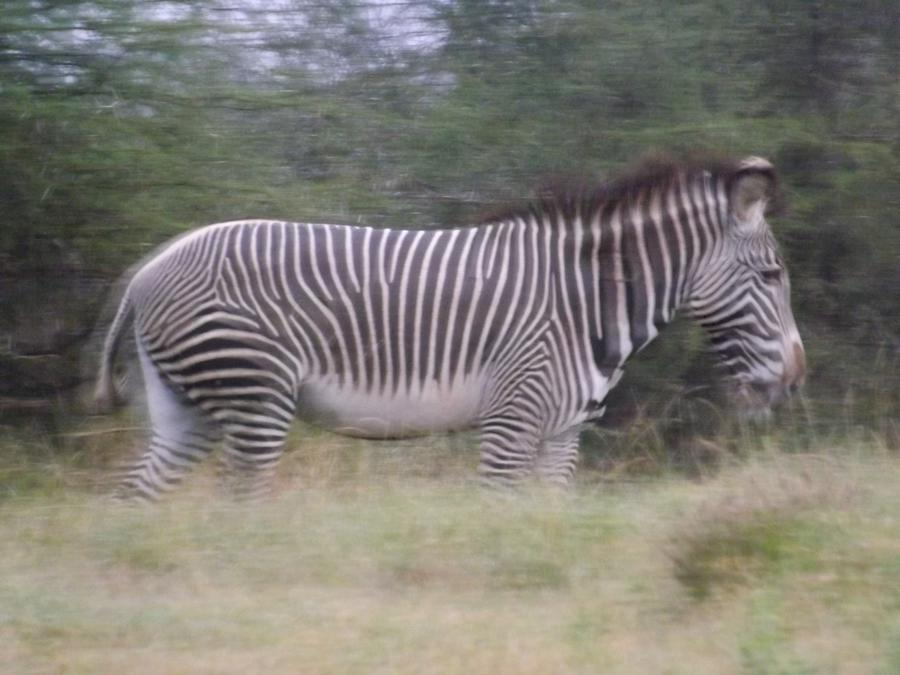zebra_grevys: (139, 227, 576, 424)
